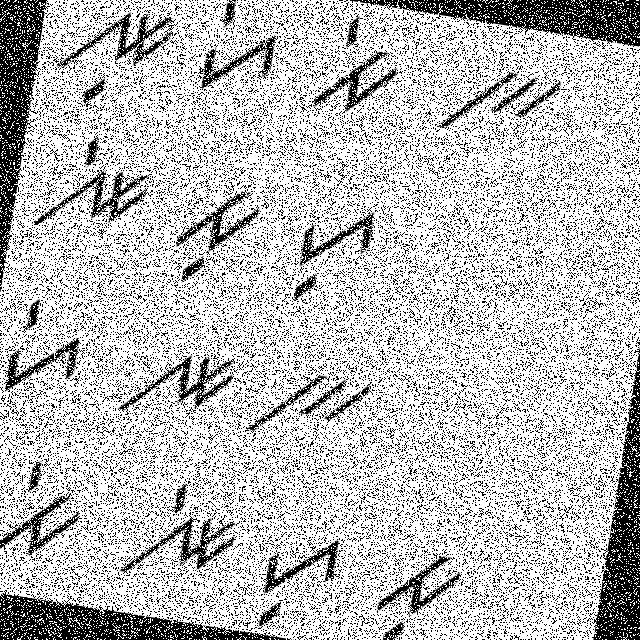he: (0, 287, 102, 412), (195, 0, 288, 99)
hu: (238, 512, 353, 639), (286, 190, 389, 316)
mbe: (296, 9, 416, 125), (0, 443, 101, 571)
mbu: (164, 173, 268, 292), (361, 534, 474, 639)
nda: (106, 326, 244, 440)
nde: (105, 472, 248, 601), (23, 122, 158, 250)
ndu: (40, 0, 185, 128)
